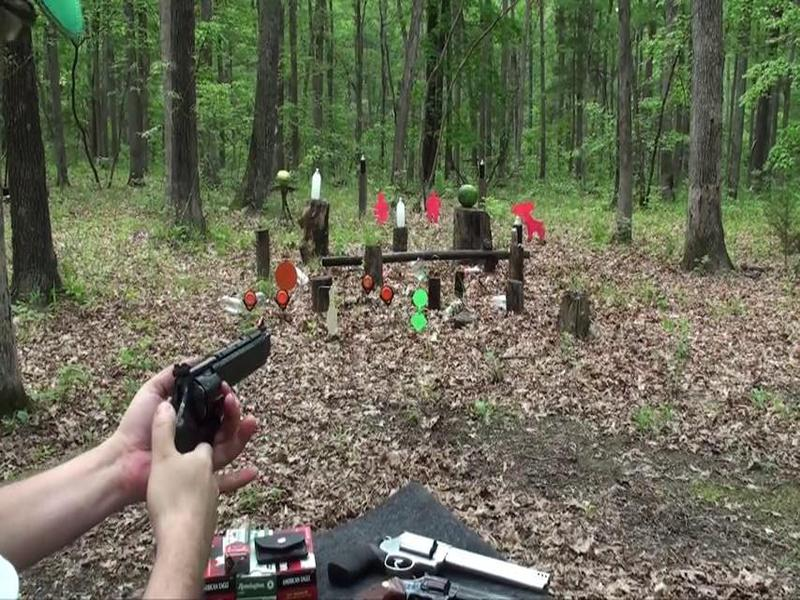Revolver: (155, 308, 287, 484)
